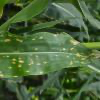Corn rust leaf: (0, 32, 100, 79)
